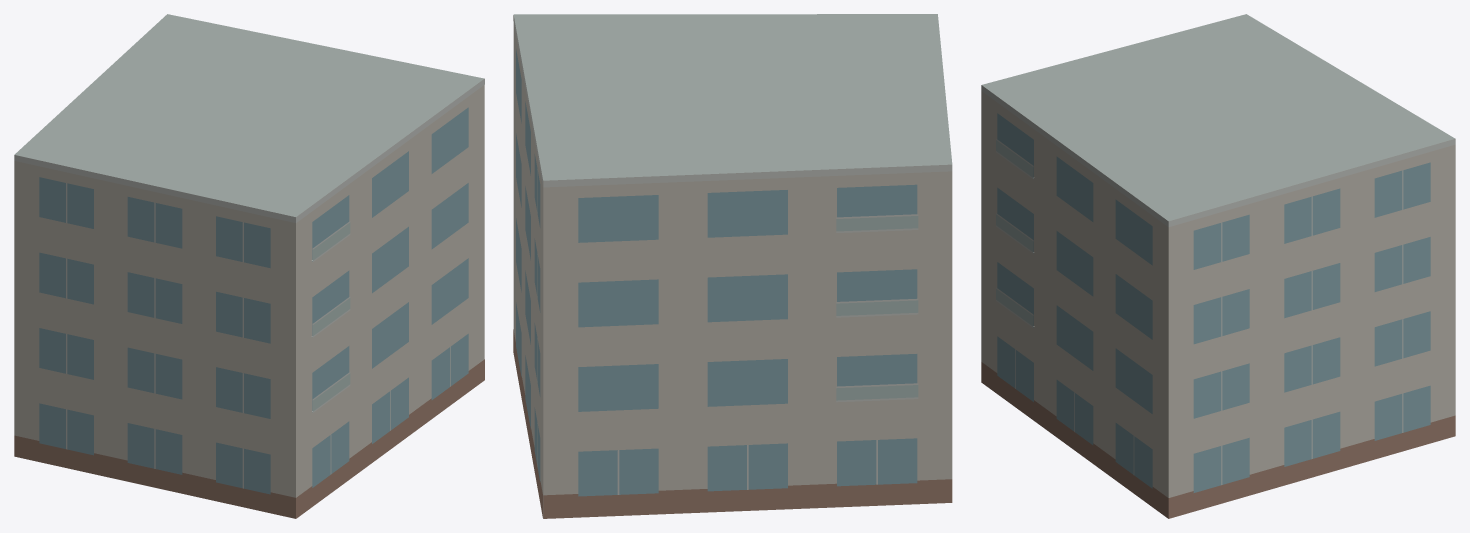
The model's file is survey-upis-32496449.glb.
The picture shows the model from 3 angles, left to right: view 1: azimuth 30°, elevation 25°; view 2: azimuth 150°, elevation 25°; view 3: azimuth 270°, elevation 25°; orthographic projection. The views are drawn at different scales.
Parts seen in each view (by area): view 1: survey-upis-32496449.tmp; view 2: survey-upis-32496449.tmp; view 3: survey-upis-32496449.tmp.
Boxes of the visible parts, x1,y1,x2,y2 form: survey-upis-32496449.tmp: (14,14,484,518); survey-upis-32496449.tmp: (513,14,952,518); survey-upis-32496449.tmp: (981,14,1455,518).
Bounding box in the file's own units: 18.4 × 12.3 × 17.77.
